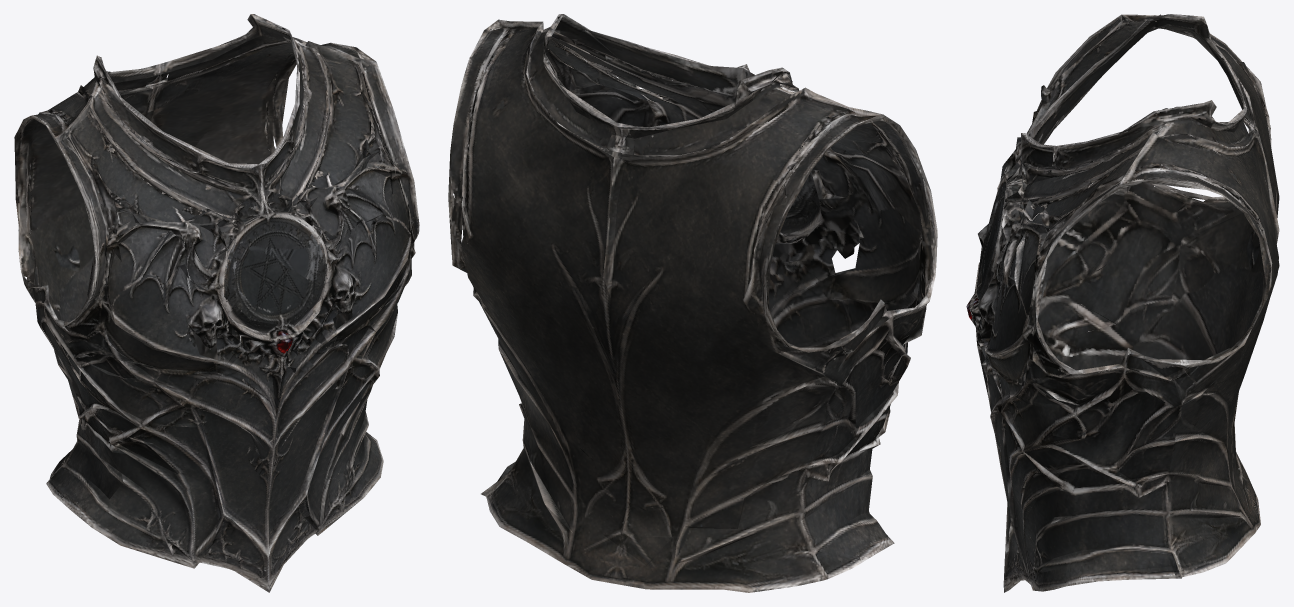
Rendered from vampire_chestplate_v3_lc_LOD1.glb.
3 renders of one model, left to right at view 1: azimuth 30°, elevation 25°; view 2: azimuth 150°, elevation 25°; view 3: azimuth 270°, elevation 25°, orthographic. The views are drawn at different scales.
Visible parts, largest first — view 1: vampire_chestplate_v3_lc_LOD1; view 2: vampire_chestplate_v3_lc_LOD1; view 3: vampire_chestplate_v3_lc_LOD1.
Part boxes in pixels (x1,y1,x2,y2): vampire_chestplate_v3_lc_LOD1: (14,14,419,592); vampire_chestplate_v3_lc_LOD1: (448,14,937,592); vampire_chestplate_v3_lc_LOD1: (966,14,1279,592).
Bounding box in the file's own units: 0.7236 × 0.9656 × 0.5133.
1 material, 1 textured.
